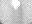person: (11, 1, 19, 9)
